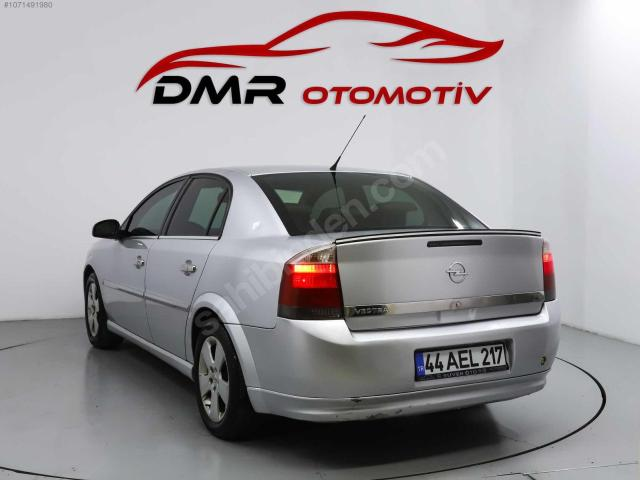plaka: (415, 344, 509, 381)
